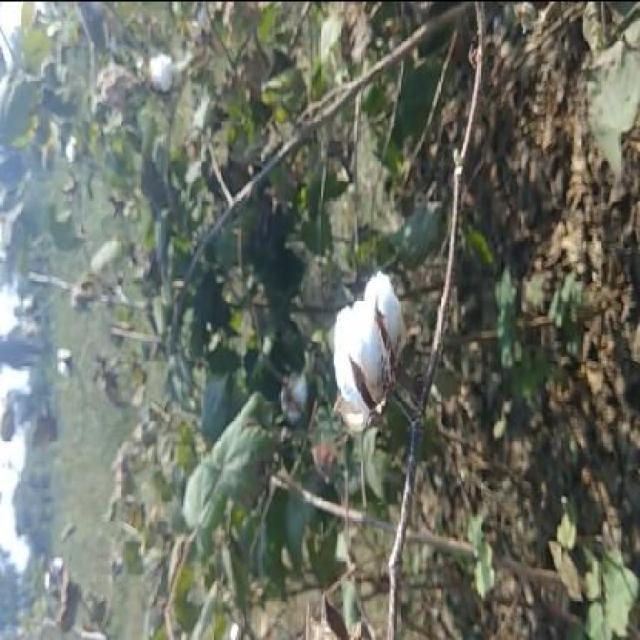cotton_ready: (324, 248, 431, 450)
